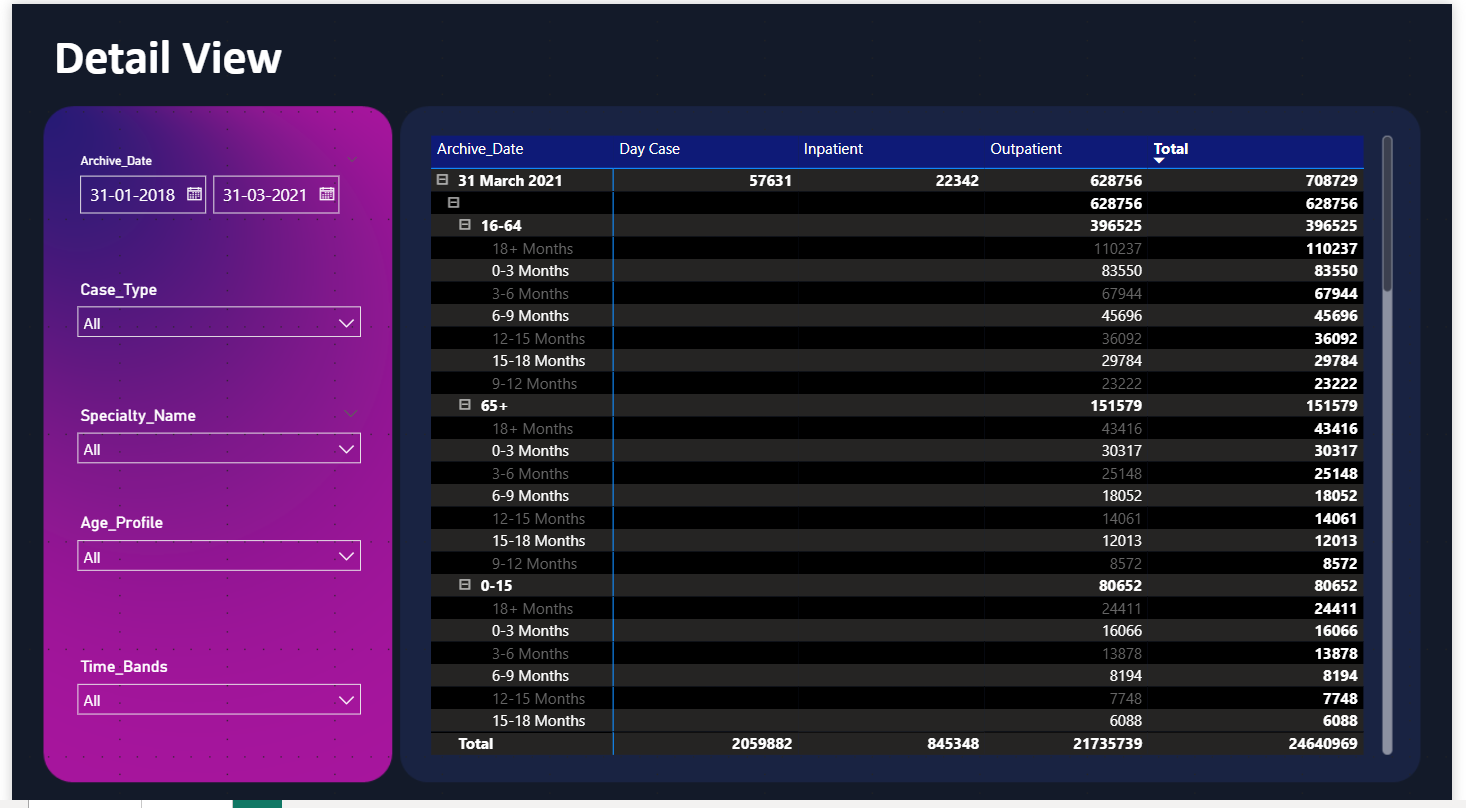

The dashboard page shown, as its layout file describes it:
{"tool":"powerbi","page":{"name":"Detail","canvas":[1280,720],"ordinal":1},"visuals":[{"type":"textbox","box":[32,16,272,64],"z":0},{"type":"slicer","fields":{"Values":["All_Data.Archive_Date"]},"box":[48,128,272,80],"z":1000},{"type":"slicer","fields":{"Values":["All_Data.Case_Type"]},"box":[48,240,272,80],"z":2000},{"type":"slicer","fields":{"Values":["All_Data.Specialty_Name"]},"box":[48,352,272,80],"z":3000},{"type":"slicer","fields":{"Values":["All_Data.Age_Profile"]},"box":[48,448,272,96],"z":4000},{"type":"slicer","fields":{"Values":["All_Data.Time_Bands"]},"box":[48,576,272,80],"z":5000},{"type":"pivotTable","fields":{"Rows":["All_Data.Archive_Date","All_Data.Specialty_Name","All_Data.Age_Profile","All_Data.Time_Bands"],"Values":["Sum(All_Data.Total)"],"Columns":["All_Data.Case_Type"]},"box":[368,112,864,560],"z":6000}]}

Visuals, with their boxes in screenshot pixels (x1, y1, x2, y2), scaled from the page's 1280x720 canvas onto the 1466x808 screenshot:
textbox: pyautogui.locateOnScreen(37, 18, 348, 90)
slicer - All_Data.Archive_Date: pyautogui.locateOnScreen(55, 144, 366, 233)
slicer - All_Data.Case_Type: pyautogui.locateOnScreen(55, 269, 366, 359)
slicer - All_Data.Specialty_Name: pyautogui.locateOnScreen(55, 395, 366, 485)
slicer - All_Data.Age_Profile: pyautogui.locateOnScreen(55, 503, 366, 610)
slicer - All_Data.Time_Bands: pyautogui.locateOnScreen(55, 646, 366, 736)
pivotTable - All_Data.Archive_Date x All_Data.Specialty_Name: pyautogui.locateOnScreen(421, 126, 1411, 754)
